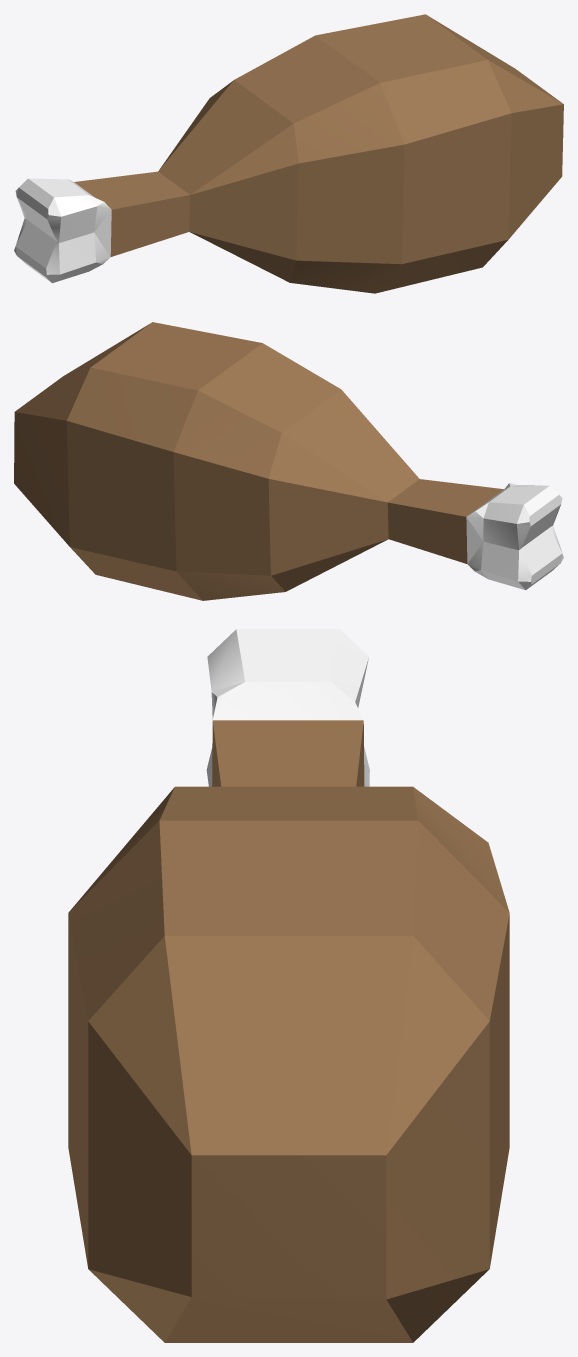
File: SM_Food_Chicken_02.fbx
The picture shows the model from 3 angles, top to bottom: view 1: azimuth 30°, elevation 25°; view 2: azimuth 150°, elevation 25°; view 3: azimuth 270°, elevation 25°; orthographic projection. The views are drawn at different scales.
Parts seen in each view (by area): view 1: SM_Food_Chicken_02; view 2: SM_Food_Chicken_02; view 3: SM_Food_Chicken_02.
Part boxes in pixels (bbox=[...]): SM_Food_Chicken_02: bbox=[14, 14, 563, 293]; SM_Food_Chicken_02: bbox=[14, 322, 563, 600]; SM_Food_Chicken_02: bbox=[68, 629, 509, 1342].
Bounding box in the file's own units: 17.1 × 6.76 × 6.42.
